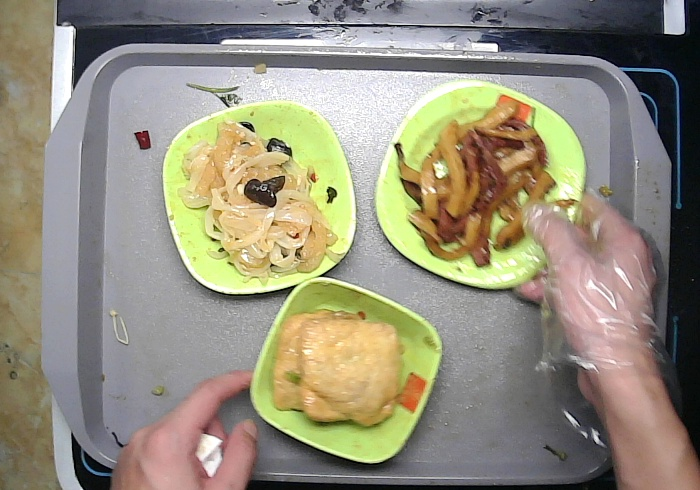SHKJ-Lv_Se_Cai_Die: (163, 100, 357, 295)
SHKJ-Lv_Se_Si_Fang_Cai_Die: (375, 78, 587, 290)
SHKJ-Lv_Se_Xiao_Fang_Die: (250, 276, 444, 465)
